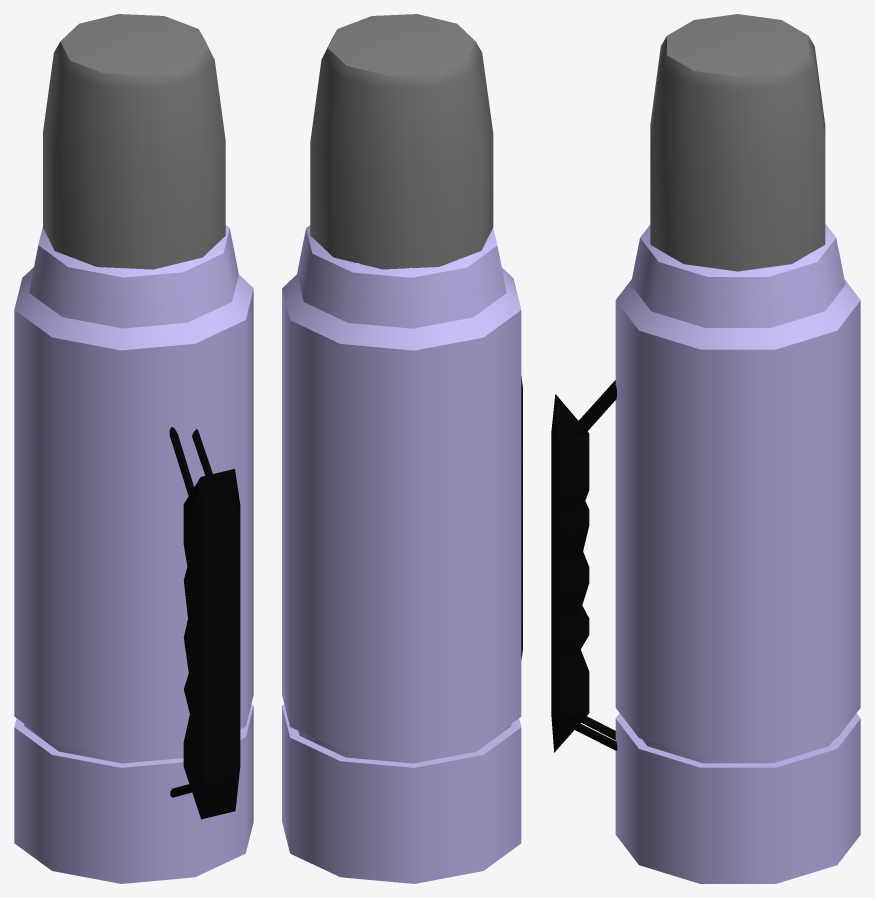
File: SM_Thermos.fbx
3 views of the same model, side by side, from view 1: azimuth 30°, elevation 25°; view 2: azimuth 150°, elevation 25°; view 3: azimuth 270°, elevation 25° (orthographic).
Visible parts, largest first — view 1: SM_Thermos; view 2: SM_Thermos; view 3: SM_Thermos.
Boxes of the visible parts, left/top/right/bottom form: SM_Thermos: left=14, top=14, right=253, bottom=883; SM_Thermos: left=282, top=14, right=522, bottom=883; SM_Thermos: left=551, top=14, right=860, bottom=883.
Bounding box in the file's own units: 15.07 × 20.01 × 56.71.
Materials: 1 (1 with a texture image).
